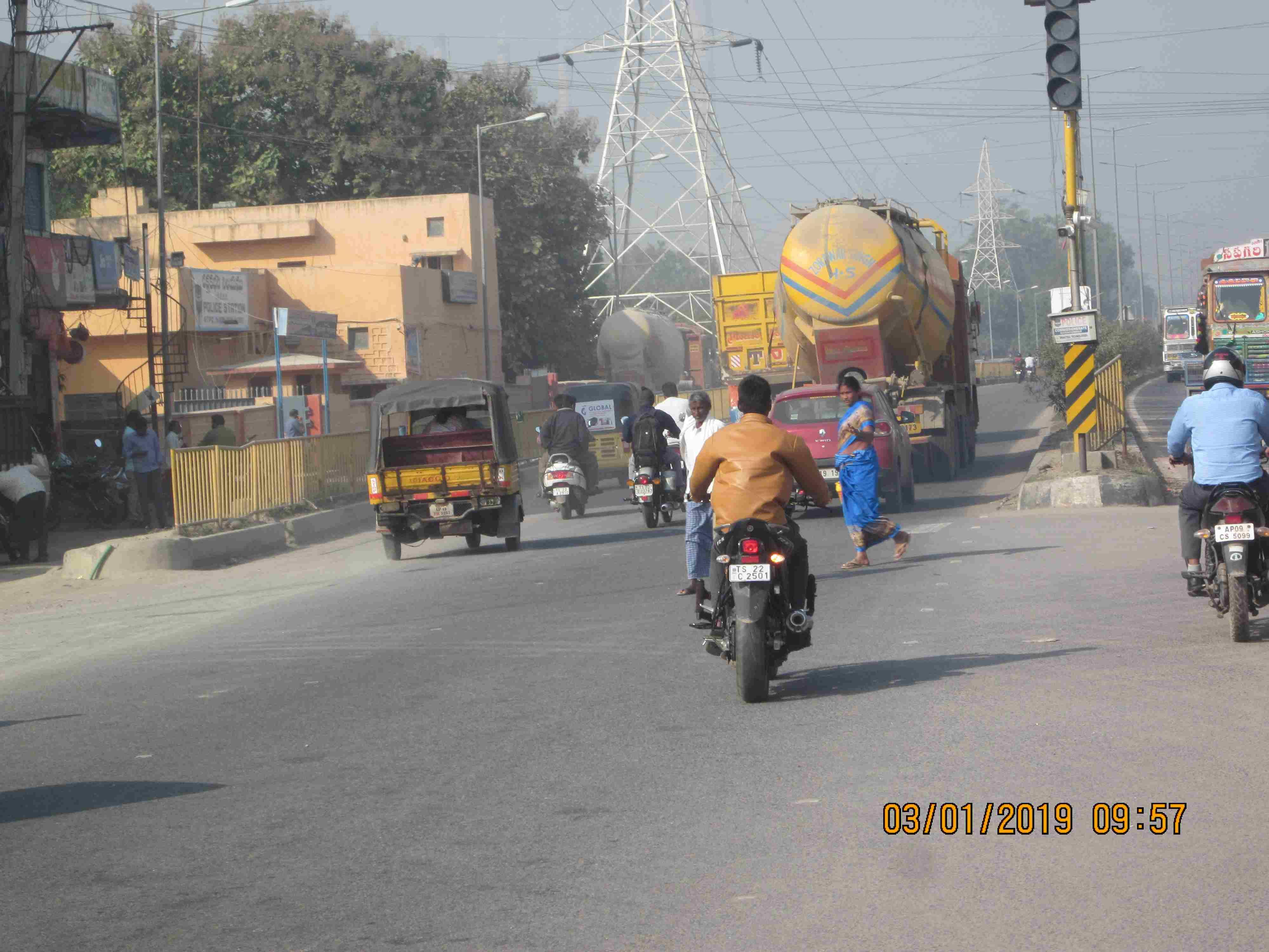plate: (725, 552, 779, 585), (1209, 518, 1263, 545)
